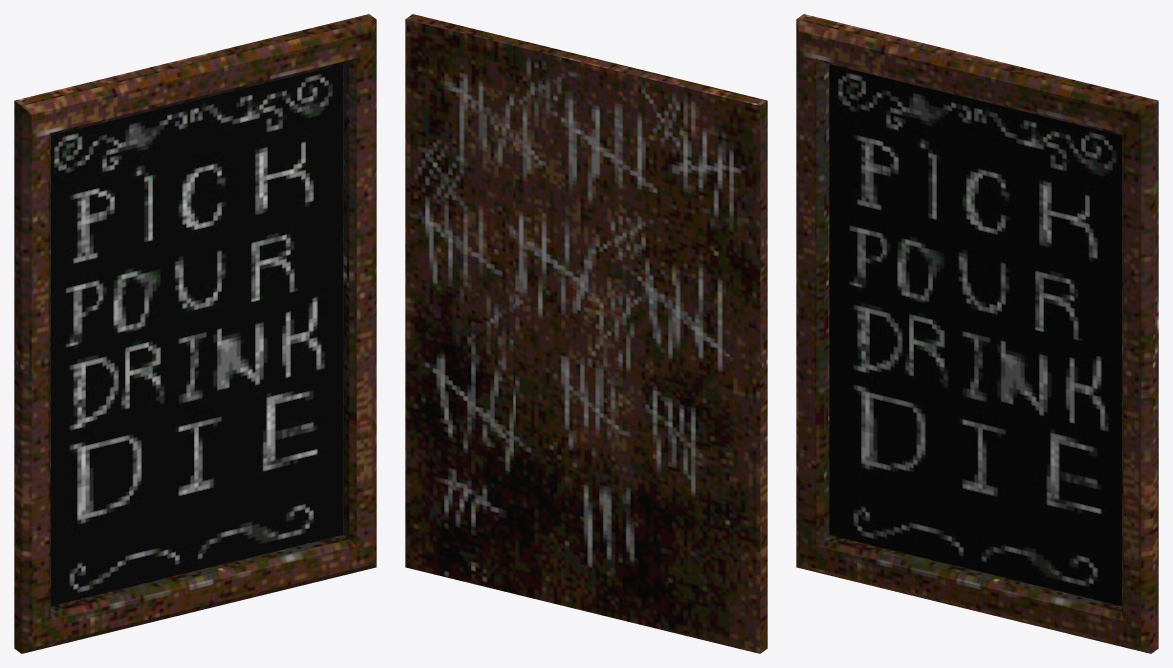
File: SM_Chalkboard_Tallyboard.fbx
3 views of the same model, side by side, from view 1: azimuth 30°, elevation 25°; view 2: azimuth 150°, elevation 25°; view 3: azimuth 330°, elevation 25° (orthographic).
Visible parts, largest first — view 1: ChalkBoard_1; view 2: ChalkBoard_1; view 3: ChalkBoard_1.
Part boxes in pixels (<box>): ChalkBoard_1: <box>14,14,376,653</box>; ChalkBoard_1: <box>405,14,767,653</box>; ChalkBoard_1: <box>796,14,1158,653</box>.
Bounding box in the file's own units: 83.01 × 122 × 4.59.
